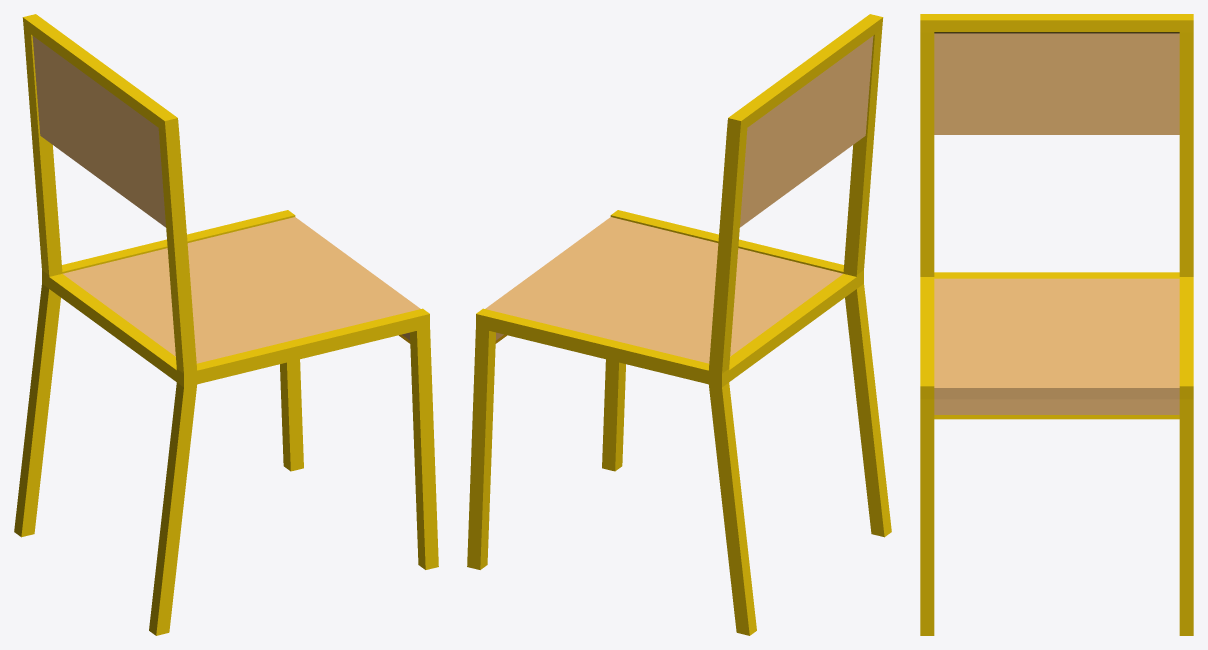
The model's file is Chaise.glb.
The picture shows the model from 3 angles, left to right: view 1: azimuth 30°, elevation 25°; view 2: azimuth 150°, elevation 25°; view 3: azimuth 270°, elevation 25°; orthographic projection. The views are drawn at different scales.
Visible parts, largest first — view 1: Cube; view 2: Cube; view 3: Cube.
Part boxes in pixels (left/top/right/bottom): Cube: left=14, top=14, right=438, bottom=635; Cube: left=467, top=14, right=891, bottom=635; Cube: left=920, top=14, right=1193, bottom=635.
Size of the model in its own units: 1.16 by 2.01 by 1.01.
Materials: 1 (1 with a texture image).
